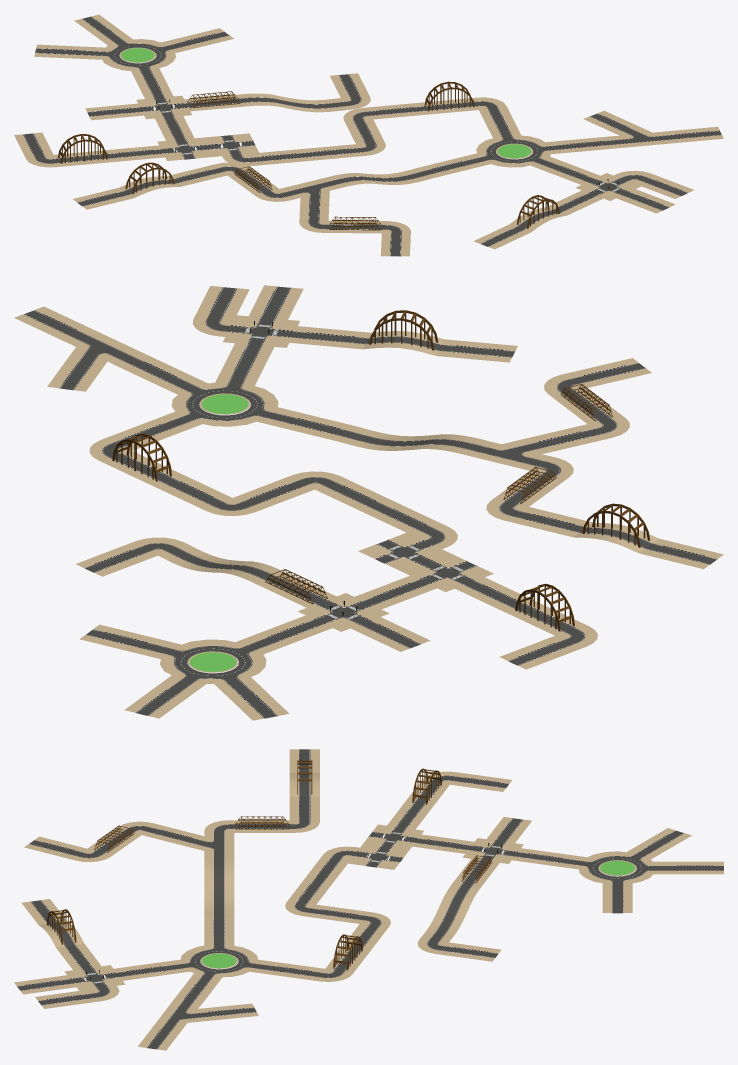
Rendered from map_1.fbx.
The picture shows the model from 3 angles, top to bottom: view 1: azimuth 30°, elevation 25°; view 2: azimuth 150°, elevation 25°; view 3: azimuth 270°, elevation 25°; orthographic projection. The views are drawn at different scales.
Visible parts, largest first — view 1: polySurface1, polySurface53, crossroads_1, bridge_12, bridge_7, bridge_2, bridge_9, bridge_1, bridge_10, crossroads1, crossroads, bridge_8 (+23 smaller); view 2: polySurface53, polySurface1, crossroads_1, bridge_7, bridge_10, bridge_12, bridge_2, bridge_9, bridge_1, crossroads, crossroads1, street_6 (+23 smaller); view 3: polySurface53, polySurface1, crossroads_1, bridge_7, bridge_12, crossroads, bridge_2, crossroads1, bridge_9, bridge_10, bridge_1, bridge_3 (+23 smaller).
Boxes of the visible parts, bbox=[...] form: polySurface1: bbox=[418, 107, 617, 184]; polySurface53: bbox=[34, 14, 233, 98]; crossroads_1: bbox=[157, 133, 258, 160]; bridge_12: bbox=[237, 93, 346, 112]; bridge_7: bbox=[326, 168, 432, 187]; bridge_2: bbox=[420, 81, 478, 114]; bridge_9: bbox=[53, 134, 111, 166]; bridge_1: bbox=[119, 162, 180, 197]; bridge_10: bbox=[510, 195, 566, 232]; crossroads1: bbox=[136, 95, 191, 119]; crossroads: bbox=[575, 173, 641, 200]; bridge_8: bbox=[328, 216, 382, 233]; polySurface53: bbox=[80, 615, 332, 720]; polySurface1: bbox=[106, 343, 358, 450]; crossroads_1: bbox=[358, 532, 493, 591]; bridge_7: bbox=[339, 427, 485, 454]; bridge_10: bbox=[363, 310, 444, 355]; bridge_12: bbox=[158, 544, 285, 584]; bridge_2: bbox=[102, 433, 181, 485]; bridge_9: bbox=[505, 583, 584, 635]; bridge_1: bbox=[574, 503, 658, 553]; crossroads: bbox=[223, 315, 299, 347]; crossroads1: bbox=[298, 593, 389, 631]; street_6: bbox=[65, 330, 143, 364]; polySurface53: bbox=[512, 828, 723, 913]; polySurface1: bbox=[114, 916, 324, 1005]; crossroads_1: bbox=[348, 824, 423, 869]; bridge_7: bbox=[204, 856, 234, 915]; bridge_12: bbox=[420, 881, 482, 942]; crossroads: bbox=[64, 965, 125, 990]; bridge_2: bbox=[325, 934, 370, 972]; crossroads1: bbox=[463, 838, 523, 863]; bridge_9: bbox=[404, 768, 449, 806]; bridge_10: bbox=[39, 909, 84, 947]; bridge_1: bbox=[289, 760, 319, 796]; bridge_3: bbox=[234, 816, 289, 832].
Bounding box in the file's own units: 38010 × 3009 × 39567.
